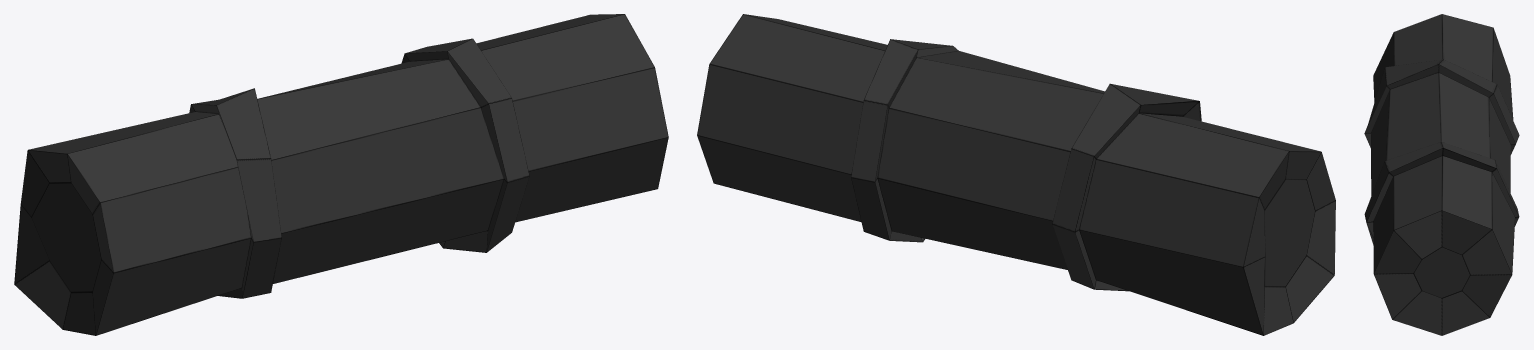
File: Blanket.fbx
3 views of the same model, side by side, from view 1: azimuth 30°, elevation 25°; view 2: azimuth 150°, elevation 25°; view 3: azimuth 270°, elevation 25° (orthographic). The views are drawn at different scales.
Visible parts, largest first — view 1: Cylinder.005; view 2: Cylinder.005; view 3: Cylinder.005.
Part boxes in pixels (<box>): Cylinder.005: <box>14,14,668,335</box>; Cylinder.005: <box>697,14,1335,335</box>; Cylinder.005: <box>1364,14,1519,335</box>.
Size of the model in its own units: 136 by 46.75 by 43.3.
